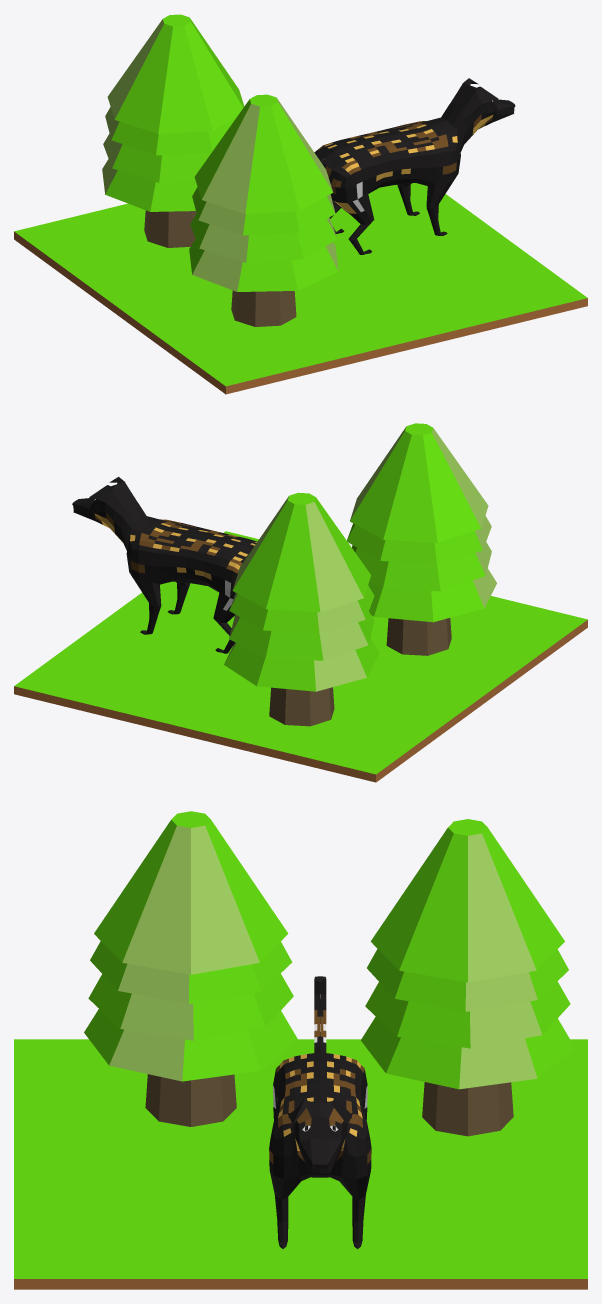
3 renders of one model, top to bottom at view 1: azimuth 30°, elevation 25°; view 2: azimuth 150°, elevation 25°; view 3: azimuth 270°, elevation 25°, orthographic. The views are drawn at different scales.
Visible parts, largest first — view 1: 立方體, Cube.003; view 2: 立方體, Cube.003; view 3: 立方體, Cube.003.
Part boxes in pixels (<box>): 立方體: <box>14,14,587,394</box>; Cube.003: <box>314,78,515,254</box>; 立方體: <box>14,423,587,782</box>; Cube.003: <box>72,476,256,653</box>; 立方體: <box>14,811,587,1289</box>; Cube.003: <box>269,976,371,1249</box>.
Size of the model in its own units: 22.91 by 12.16 by 20.98.
